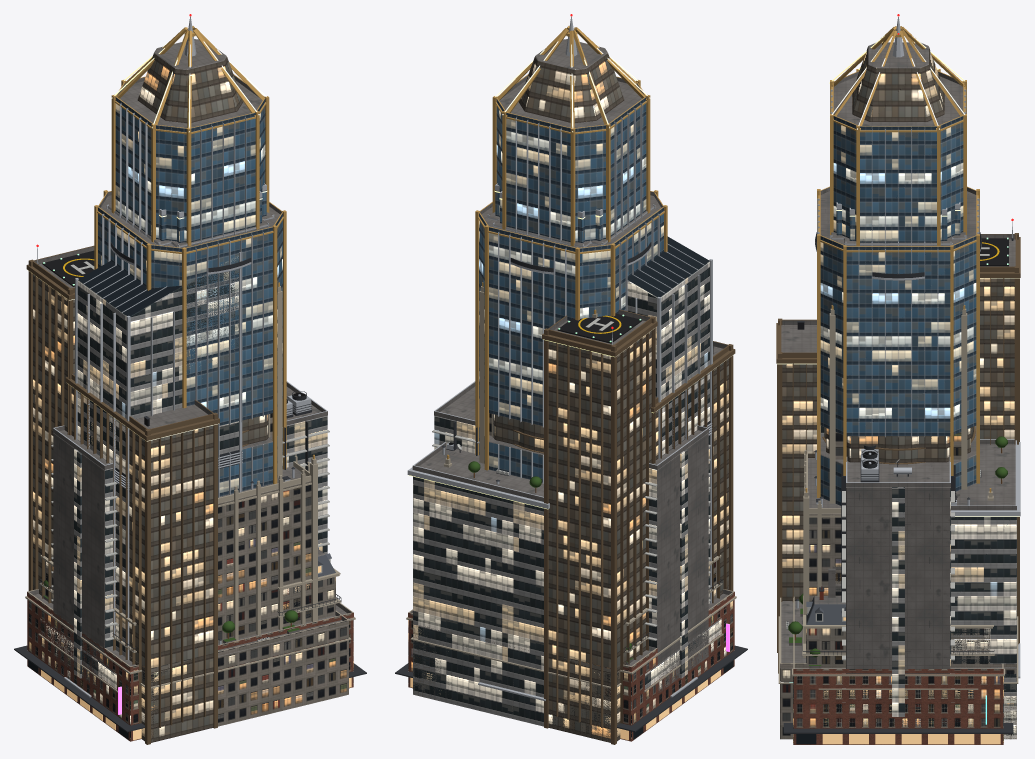
File: city_buildings.glb
3 renders of one model, left to right at view 1: azimuth 30°, elevation 25°; view 2: azimuth 150°, elevation 25°; view 3: azimuth 270°, elevation 25°, orthographic.
Parts seen in each view (by area): view 1: Bld_10_Landmark_Geo, Bld_05_LShapeTower_Geo, Bld_12_PodiumTower_Geo, Bld_03_OfficeSlab_Geo, Bld_02_SetbackTower_Geo, Bld_06_Warehouse_Geo, Bld_04_ApartmentBlock_Geo, Bld_01_GlassTower_Geo; view 2: Bld_05_LShapeTower_Geo, Bld_10_Landmark_Geo, Bld_12_PodiumTower_Geo, Bld_03_OfficeSlab_Geo, Bld_06_Warehouse_Geo, Bld_01_GlassTower_Geo, Bld_02_SetbackTower_Geo, Bld_08_RoundTower_Geo; view 3: Bld_10_Landmark_Geo, Bld_05_LShapeTower_Geo, Bld_03_OfficeSlab_Geo, Bld_12_PodiumTower_Geo, Bld_02_SetbackTower_Geo, Bld_06_Warehouse_Geo, Bld_04_ApartmentBlock_Geo, Bld_08_RoundTower_Geo, Bld_01_GlassTower_Geo.
Part boxes in pixels (x1,y1,x2,y2): Bld_10_Landmark_Geo: (34, 14, 351, 741); Bld_05_LShapeTower_Geo: (26, 244, 219, 744); Bld_12_PodiumTower_Geo: (14, 252, 366, 741); Bld_03_OfficeSlab_Geo: (51, 381, 329, 692); Bld_02_SetbackTower_Geo: (218, 282, 317, 643); Bld_06_Warehouse_Geo: (38, 618, 117, 731); Bld_04_ApartmentBlock_Geo: (39, 547, 341, 652); Bld_01_GlassTower_Geo: (106, 183, 274, 247); Bld_05_LShapeTower_Geo: (407, 309, 735, 744); Bld_10_Landmark_Geo: (410, 14, 728, 742); Bld_12_PodiumTower_Geo: (395, 236, 747, 741); Bld_03_OfficeSlab_Geo: (432, 381, 710, 692); Bld_06_Warehouse_Geo: (644, 618, 723, 731); Bld_01_GlassTower_Geo: (487, 183, 655, 436); Bld_02_SetbackTower_Geo: (444, 282, 597, 467); Bld_08_RoundTower_Geo: (510, 242, 651, 453); Bld_10_Landmark_Geo: (778, 14, 1020, 739); Bld_05_LShapeTower_Geo: (776, 218, 1020, 739); Bld_03_OfficeSlab_Geo: (841, 445, 955, 716); Bld_12_PodiumTower_Geo: (783, 426, 1013, 744); Bld_02_SetbackTower_Geo: (803, 305, 993, 657); Bld_06_Warehouse_Geo: (818, 683, 978, 744); Bld_04_ApartmentBlock_Geo: (802, 586, 994, 667); Bld_08_RoundTower_Geo: (815, 232, 981, 464); Bld_01_GlassTower_Geo: (830, 202, 966, 245).
Size of what is drawn, in the model's own units: 64.4 by 170 by 55.7.
Materials: 8 (7 with a texture image).
